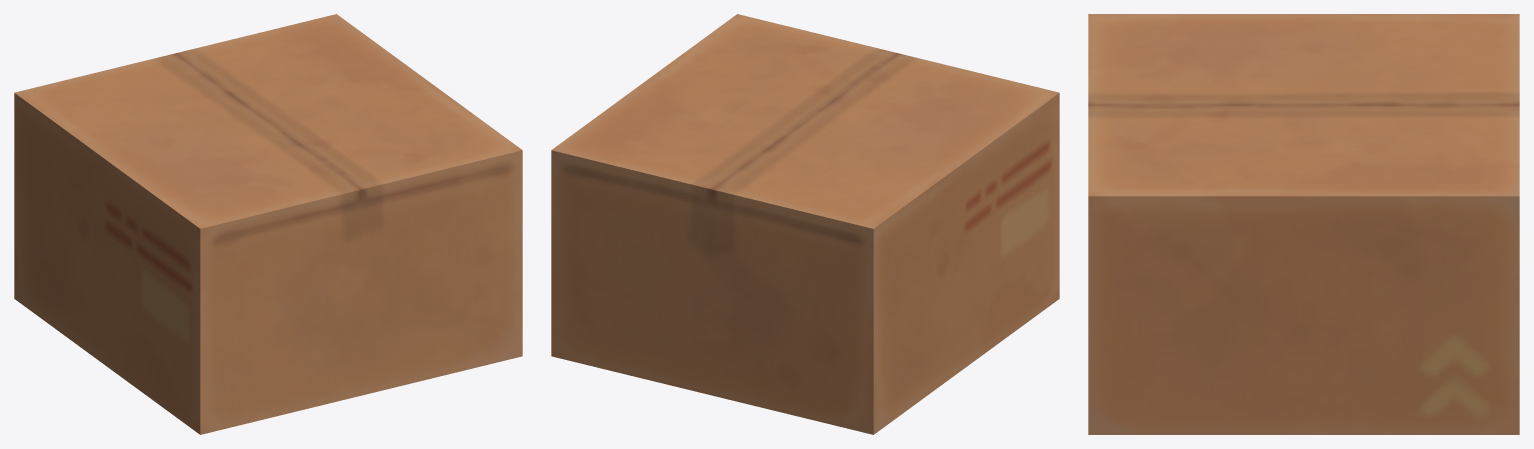
File: Pfb_PaperBox__22.fbx
3 views of the same model, side by side, from view 1: azimuth 30°, elevation 25°; view 2: azimuth 150°, elevation 25°; view 3: azimuth 270°, elevation 25° (orthographic). The views are drawn at different scales.
Visible parts, largest first — view 1: Mat_PaperBox_01_01; view 2: Mat_PaperBox_01_01; view 3: Mat_PaperBox_01_01.
Part boxes in pixels (<box>): Mat_PaperBox_01_01: <box>14,14,522,434</box>; Mat_PaperBox_01_01: <box>551,14,1059,434</box>; Mat_PaperBox_01_01: <box>1088,14,1519,434</box>.
Size of the model in its own units: 0.9908 by 0.6051 by 0.9908.
Materials: 1 (1 with a texture image).
